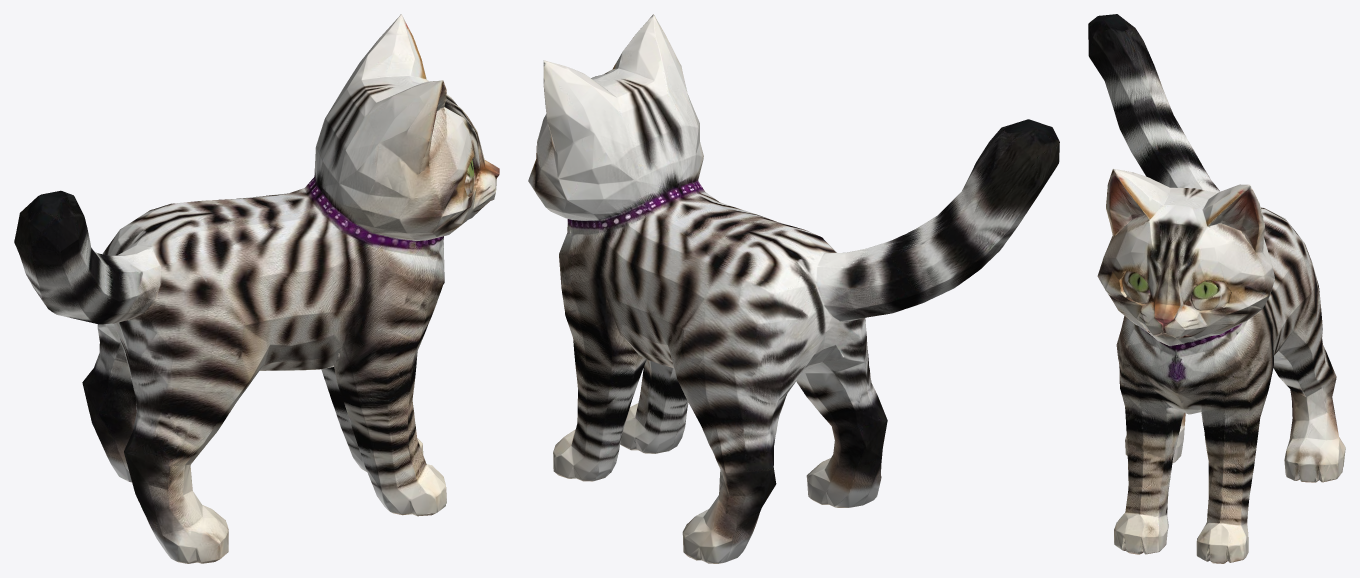
Rendered from SCUFFPAW.glb.
The picture shows the model from 3 angles, left to right: view 1: azimuth 30°, elevation 25°; view 2: azimuth 150°, elevation 25°; view 3: azimuth 270°, elevation 25°; orthographic projection. The views are drawn at different scales.
Parts seen in each view (by area): view 1: fit; view 2: fit; view 3: fit.
Part boxes in pixels (box(x1,y1,x2,y2)): fit: box(14, 14, 499, 563); fit: box(528, 14, 1059, 563); fit: box(1088, 14, 1345, 563).
Bounding box in the file's own units: 1.22 × 1 × 0.6127.
Materials: 1 (1 with a texture image).
